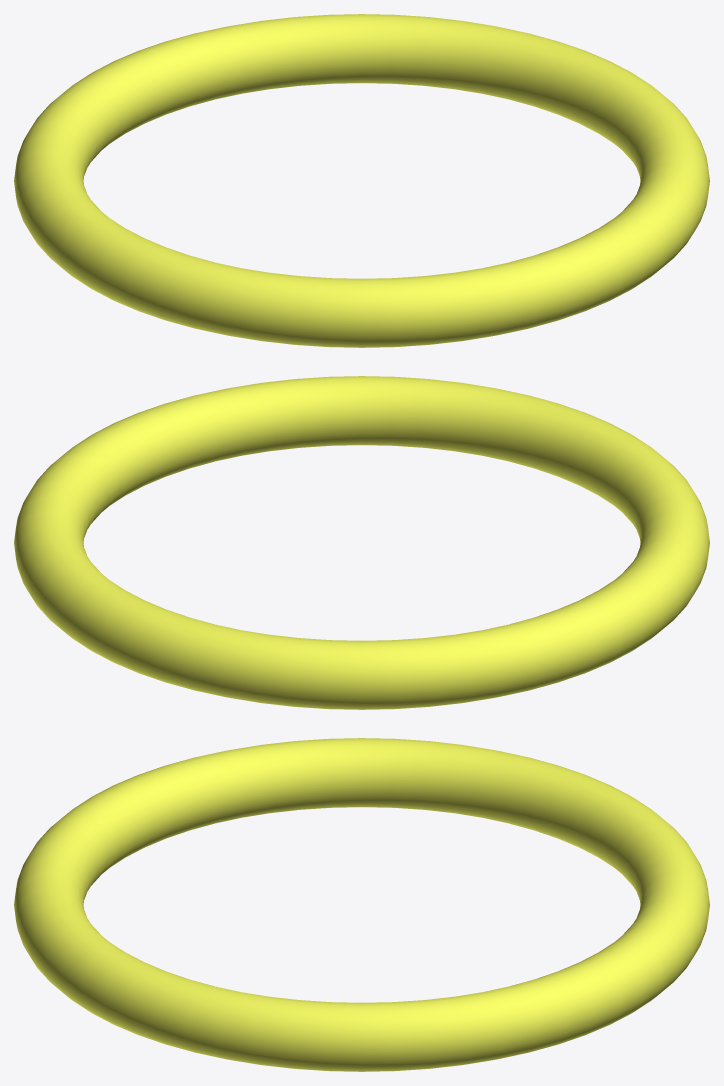
Rendered from angel.fbx.
3 views of the same model, one above another, from view 1: azimuth 30°, elevation 25°; view 2: azimuth 150°, elevation 25°; view 3: azimuth 270°, elevation 25° (orthographic).
Parts seen in each view (by area): view 1: obj2; view 2: obj2; view 3: obj2.
Part boxes in pixels (left/top/right/bottom): obj2: left=14, top=14, right=709, bottom=347; obj2: left=14, top=376, right=709, bottom=709; obj2: left=14, top=738, right=709, bottom=1071.
Size of the model in its own units: 106 by 10.61 by 106.
